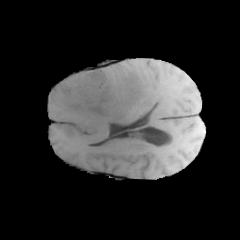glioma: (49, 66, 149, 142)
